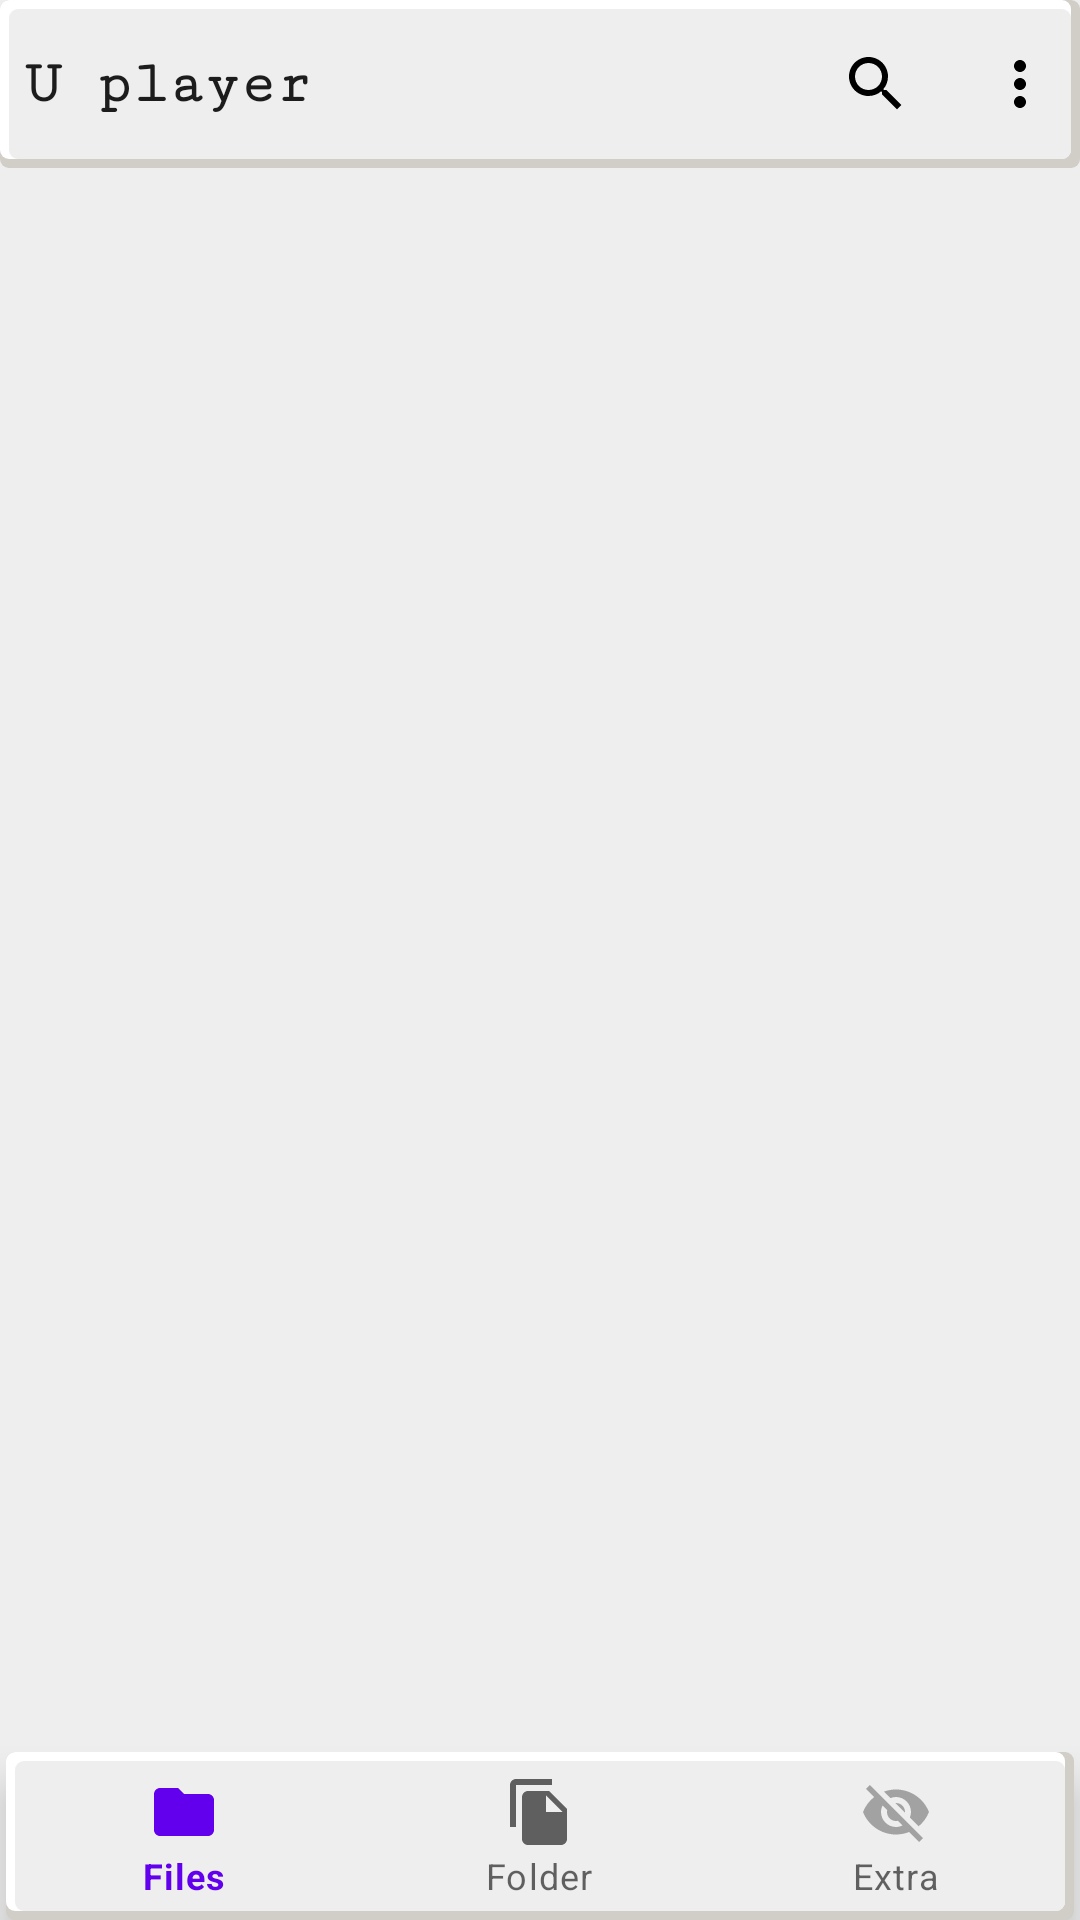

Icons on this 1080px×1920px Android screen, each with the point to tap as [x,y]:
more: [1020,84]
search: [875,83]
